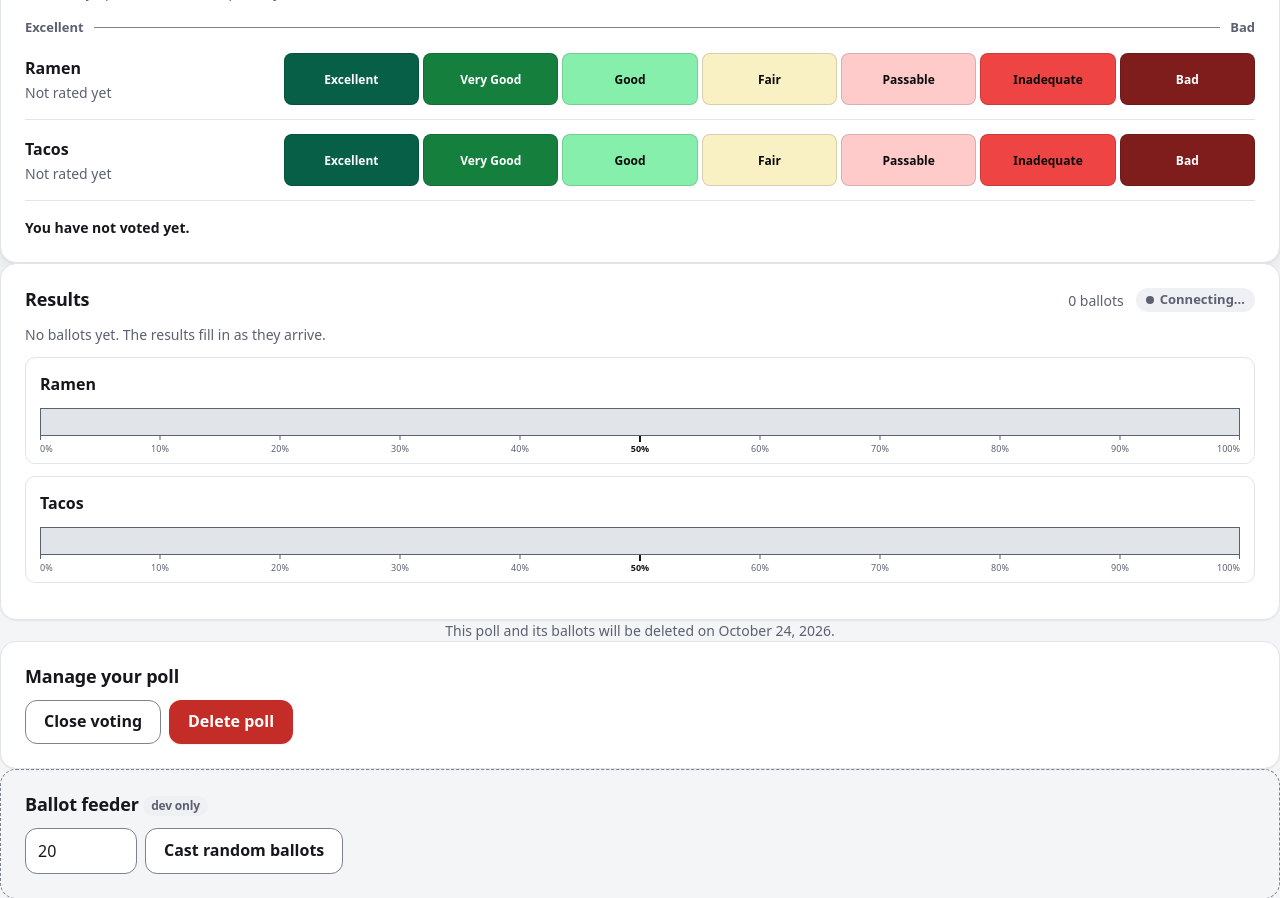
Test: managing a poll › says why a change failed
(page scrolled)
Click the button "Close voting".
click(93, 722)  # box 25,700 -> 161,744
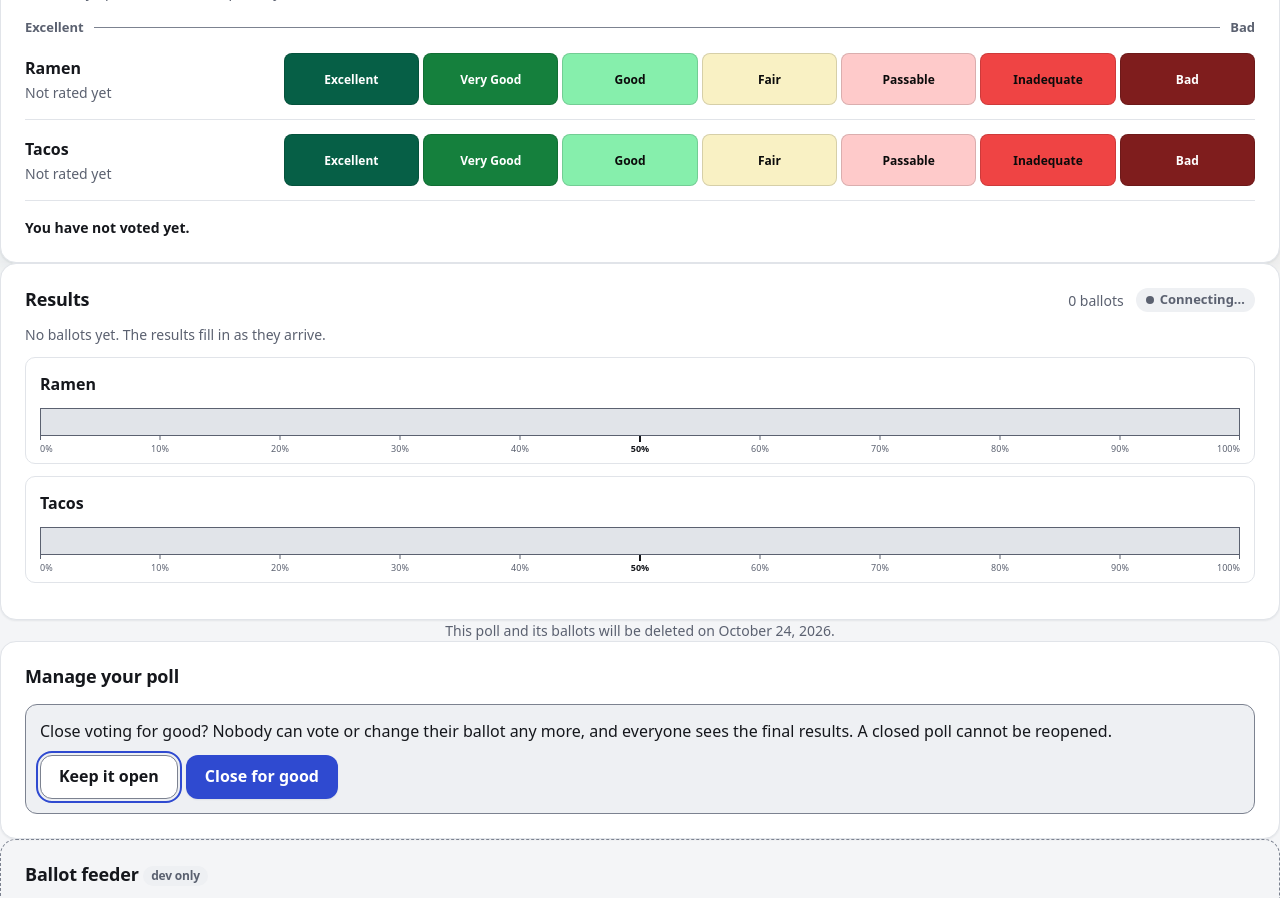
Click the button "Close for good".
click(262, 777)  # box 186,755 -> 338,799
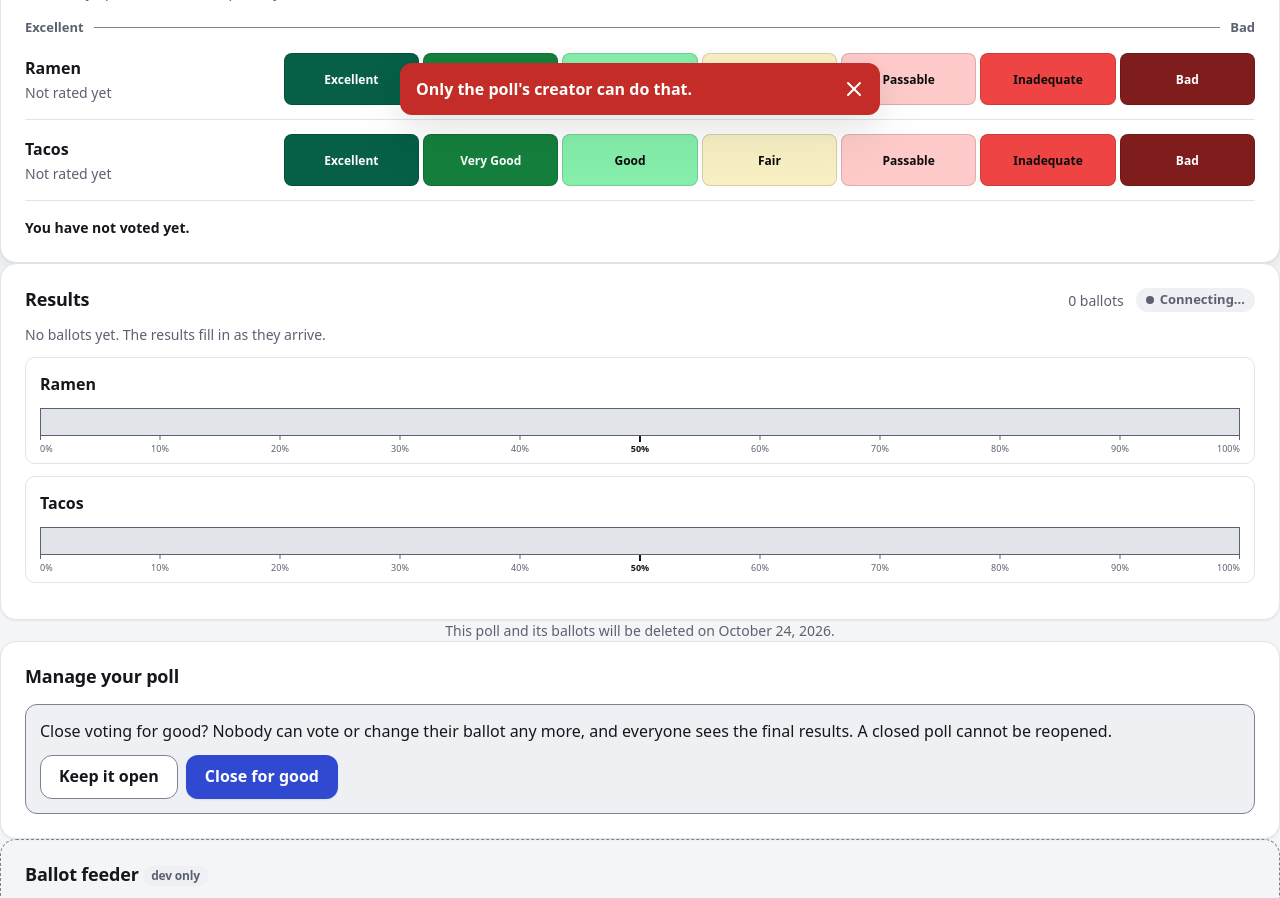
Now the message "Only the poll's creator can do that." is shown, box 400,63 -> 880,115
